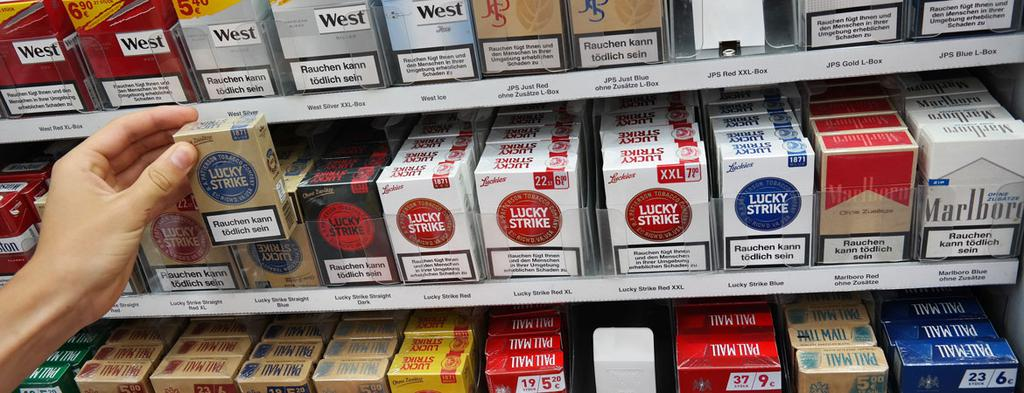lucky_strike_blue: (723, 156, 812, 267)
lucky_strike_red: (612, 169, 708, 274), (487, 169, 571, 276), (392, 176, 462, 279)
marlboro_gold: (925, 142, 1019, 258)
marlboro_red: (819, 151, 908, 263)
